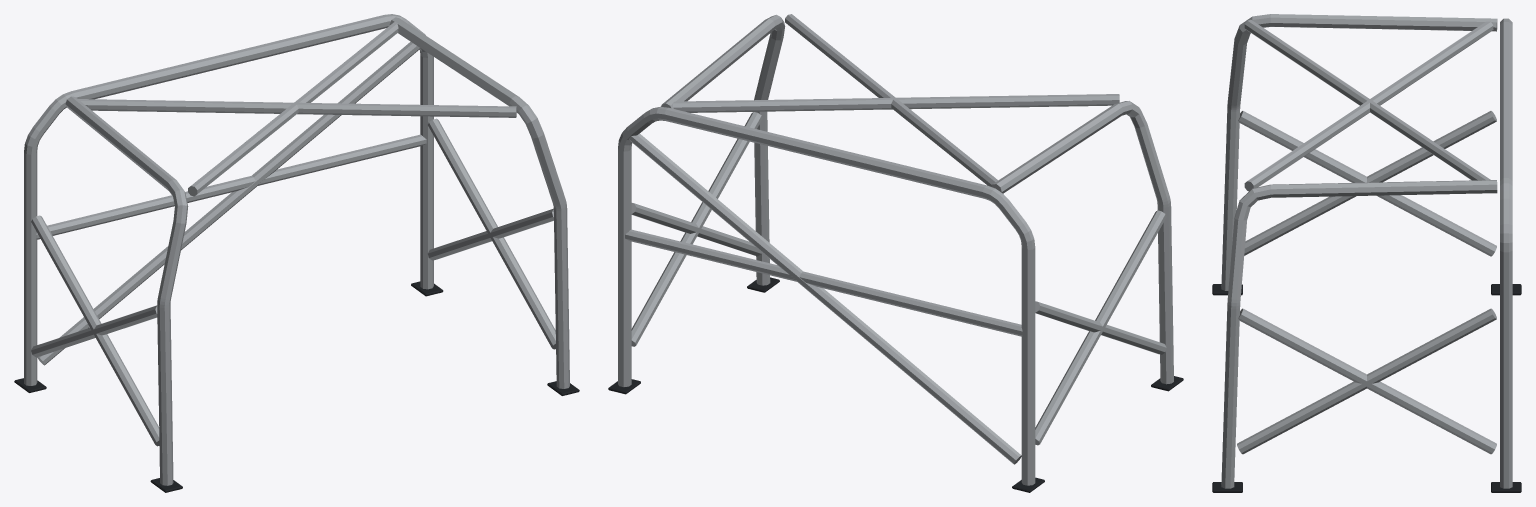
The model's file is kaze_gt.glb.
The picture shows the model from 3 angles, left to right: view 1: azimuth 30°, elevation 25°; view 2: azimuth 150°, elevation 25°; view 3: azimuth 270°, elevation 25°; orthographic projection. The views are drawn at different scales.
Visible parts, largest first — view 1: model; view 2: model; view 3: model.
Boxes of the visible parts, <box> form: model: <box>14,14,579,492</box>; model: <box>608,14,1183,492</box>; model: <box>1212,14,1521,492</box>.
Bounding box in the file's own units: 1.6 × 1.04 × 1.01.
Materials: 2 (1 with a texture image).
